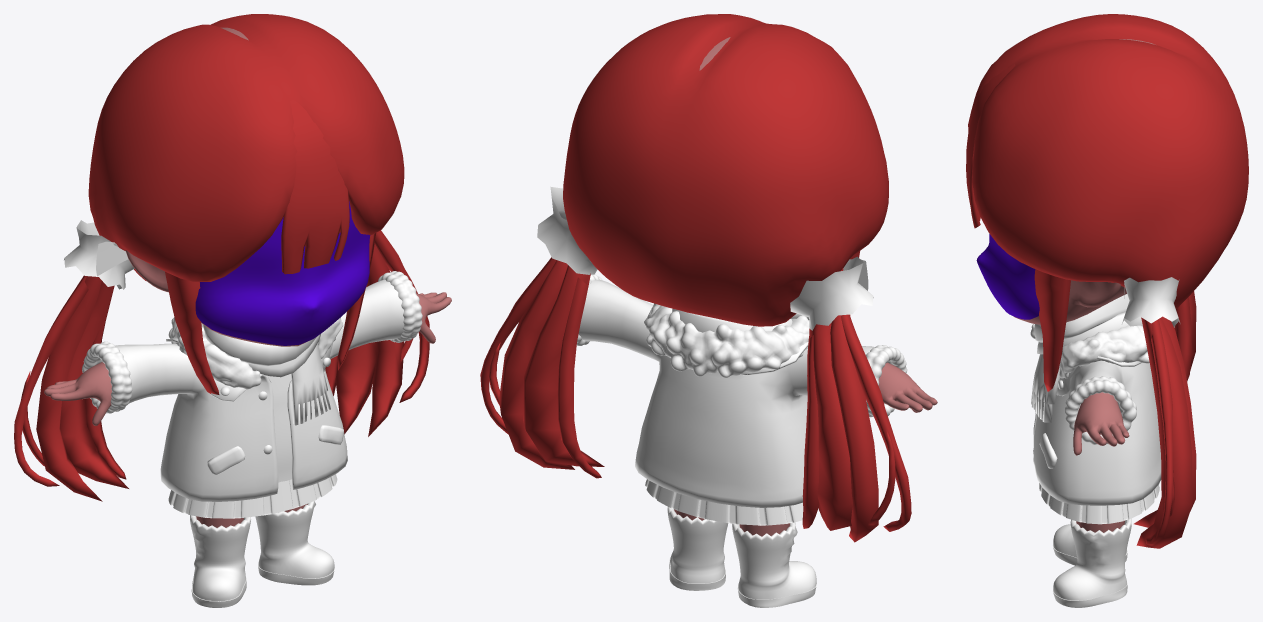
Rendered from girl1.fbx.
The picture shows the model from 3 angles, left to right: view 1: azimuth 30°, elevation 25°; view 2: azimuth 150°, elevation 25°; view 3: azimuth 270°, elevation 25°; orthographic projection. The views are drawn at different scales.
Visible parts, largest first — view 1: hair, cloth, face, body; view 2: hair, cloth, body; view 3: hair, cloth, body, face.
Part boxes in pixels (left/top/right/bottom): hair: left=14, top=14, right=429, bottom=501; cloth: left=64, top=220, right=422, bottom=607; face: left=195, top=201, right=370, bottom=345; body: left=44, top=27, right=451, bottom=527; hair: left=480, top=14, right=911, bottom=542; cloth: left=537, top=186, right=907, bottom=607; body: left=674, top=37, right=937, bottom=536; hair: left=966, top=14, right=1248, bottom=548; cloth: left=1030, top=277, right=1180, bottom=607; body: left=1013, top=39, right=1155, bottom=532; face: left=976, top=234, right=1039, bottom=319.
Bounding box in the file's own units: 85.3 × 107 × 50.38.
